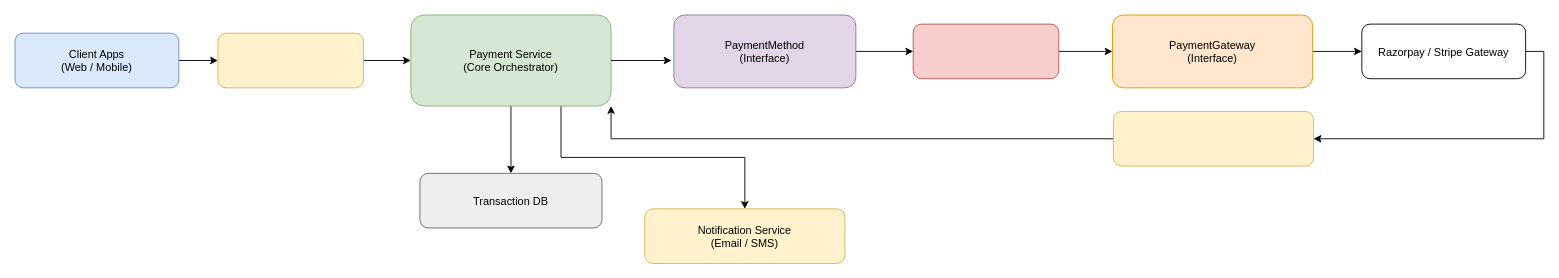
Some shapes in this 1559 by 278 pixel diagram are drawn without their labels. Each missing label, with the box of its shape:
API Gateway: (217, 32, 364, 88)
UPI / Card Payment: (912, 23, 1059, 79)
Webhook Handler: (1112, 111, 1314, 166)
